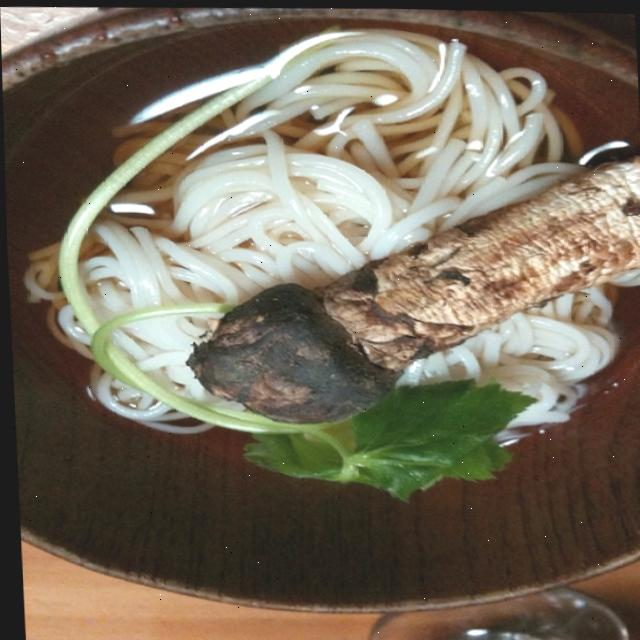面条主食: (0, 0, 640, 616)
